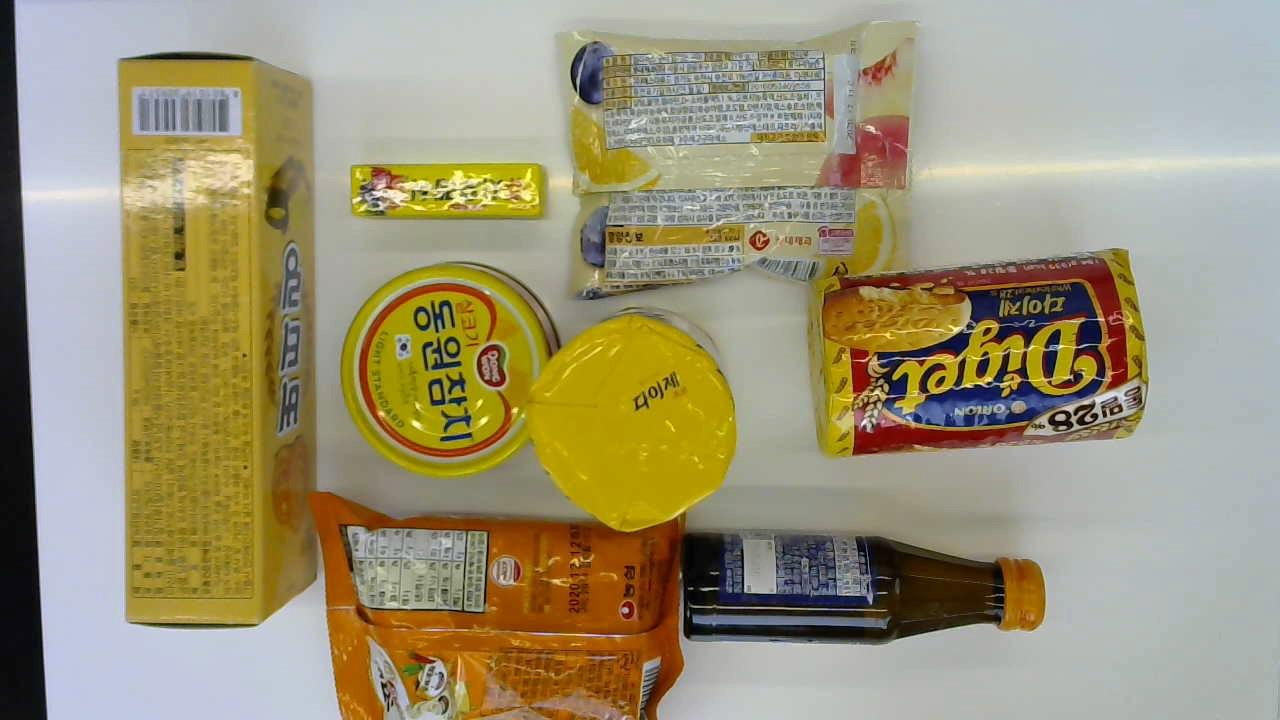buttering: (113, 51, 317, 626)
diget_choco: (527, 311, 733, 532)
diget_ori: (820, 249, 1155, 459)
gumi_gumi: (559, 26, 910, 289)
jjolbyung_noodle: (322, 507, 680, 717)
juicyfresh: (348, 162, 546, 219)
tuna: (336, 260, 558, 474)
vita500: (678, 526, 1046, 640)
